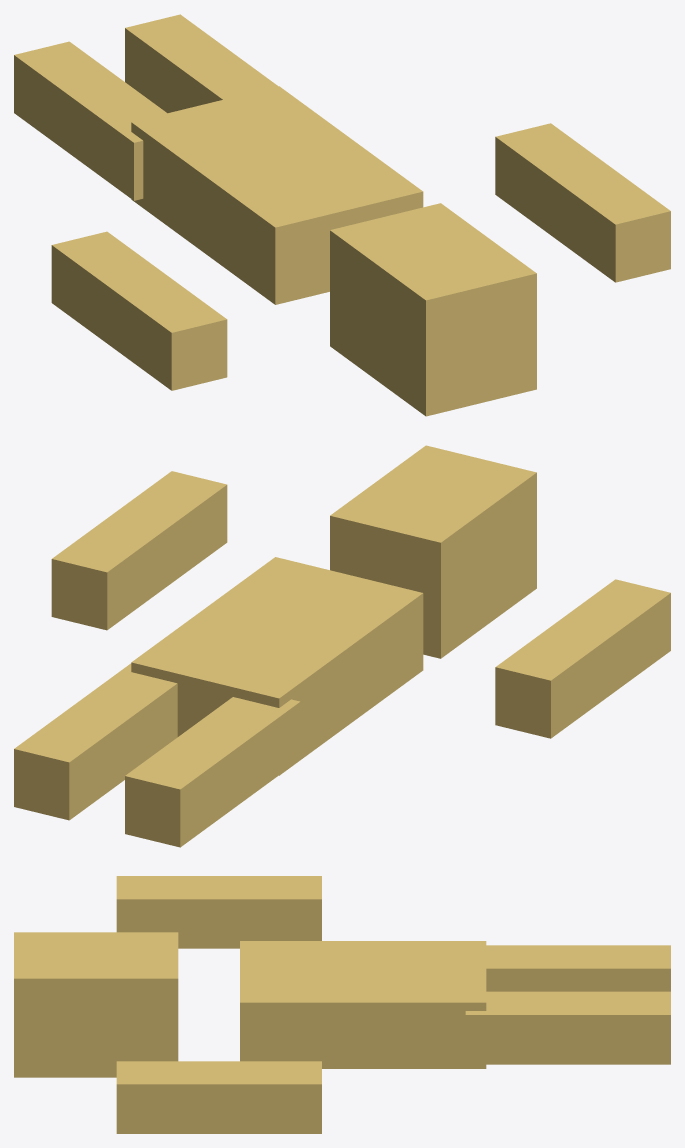
The model's file is mummy_enemy.glb.
3 views of the same model, one above another, from view 1: azimuth 30°, elevation 25°; view 2: azimuth 150°, elevation 25°; view 3: azimuth 270°, elevation 25° (orthographic). The views are drawn at different scales.
Parts seen in each view (by area): view 1: mummy_enemy; view 2: mummy_enemy; view 3: mummy_enemy.
Boxes of the visible parts, x1,y1,x2,y2 form: mummy_enemy: (14, 14, 670, 416); mummy_enemy: (14, 445, 670, 847); mummy_enemy: (14, 876, 670, 1133).
Bounding box in the file's own units: 2.16 × 0.48 × 2.88.
